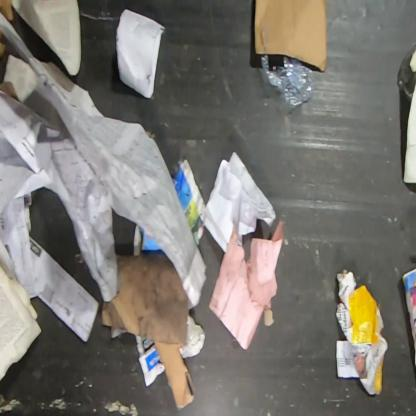cardboard: (102, 250, 197, 408), (335, 267, 389, 396), (254, 0, 326, 72)
rigid_plastic: (260, 56, 314, 108)
